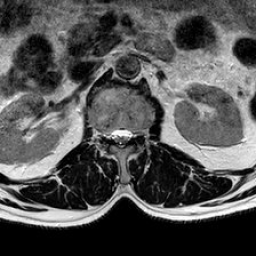CCS_normal: (117, 121, 124, 154)
LFS_normal: (132, 120, 141, 144)
LLS_normal: (124, 121, 132, 148)
RFS_normal: (102, 120, 110, 147)
RLS_normal: (110, 121, 117, 148)
